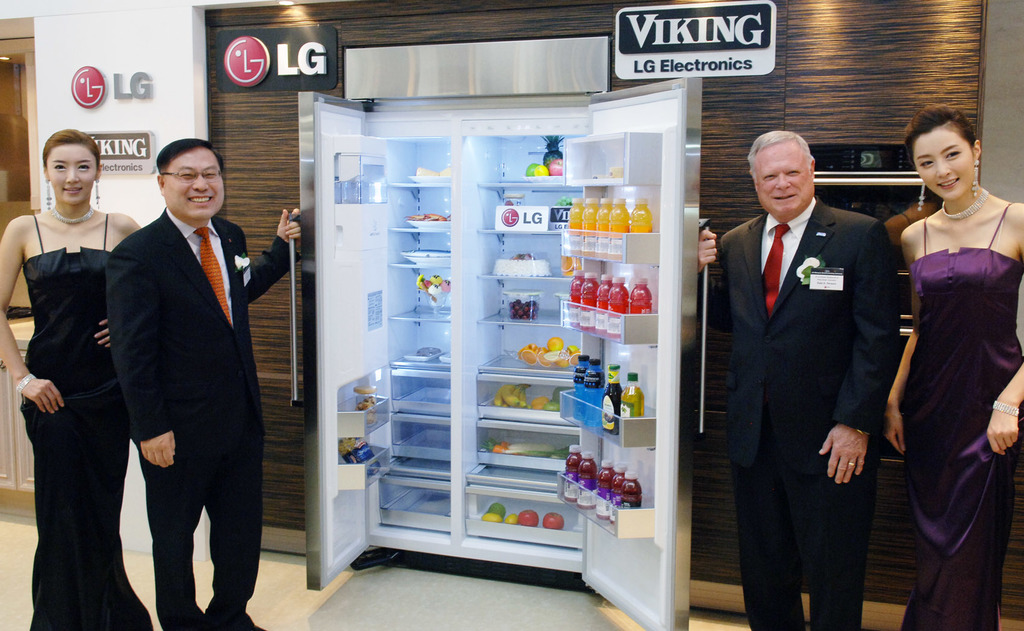handle: (695, 220, 718, 433), (280, 214, 305, 407)
refrigerator door: (585, 102, 682, 605), (299, 101, 382, 539)
